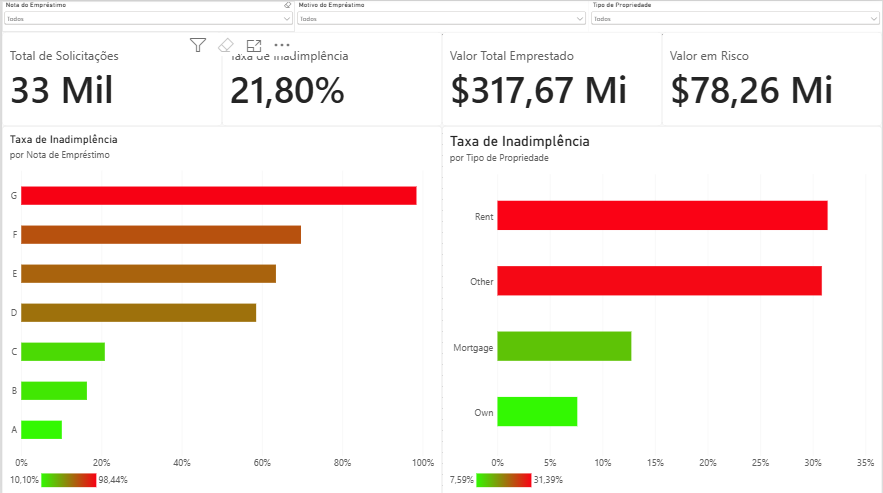

The dashboard page shown, as its layout file describes it:
{"tool":"powerbi","page":{"name":"Visão Geral","canvas":[1920,1080],"ordinal":0},"visuals":[{"type":"cardVisual","fields":{"Data":["Medidas.Total de Solicitações"]},"box":[0,67.5,480,205],"z":0},{"type":"cardVisual","fields":{"Data":["Medidas.Taxa de Inadimplência"]},"box":[480,67.5,480,205],"z":1000},{"type":"cardVisual","fields":{"Data":["Medidas.Valor Total Emprestado"]},"box":[960,67.5,480,205],"z":2000},{"type":"cardVisual","fields":{"Data":["Medidas.Valor em Risco"]},"box":[1440,67.5,480,205],"z":3000},{"type":"slicer","fields":{"Values":["FatoEmprestimos.nota_emprestimo"]},"box":[0,0,640,67.1],"z":3001},{"type":"slicer","fields":{"Values":["FatoEmprestimos.motivo_emprestimo"]},"box":[638.8,0,640,67.1],"z":3002},{"type":"slicer","fields":{"Values":["FatoEmprestimos.propriedade_residencial_pessoa"]},"box":[1281.2,0,640,67.1],"z":3003},{"type":"barChart","fields":{"Category":["FatoEmprestimos.nota_emprestimo"],"Y":["Medidas.Taxa de Inadimplência"]},"box":[0,272.5,960,807.5],"z":3004},{"type":"barChart","fields":{"Category":["FatoEmprestimos.propriedade_residencial_pessoa"],"Y":["Medidas.Taxa de Inadimplência"]},"box":[960,272.5,960,807.5],"z":3005}]}

Visuals, with their boxes in screenshot pixels (x1, y1, x2, y2), scaled from the page's 1920x1080 canvas onto the 883x493 screenshot:
cardVisual - Medidas.Total de Solicitações: BBox(0, 31, 221, 124)
cardVisual - Medidas.Taxa de Inadimplência: BBox(221, 31, 442, 124)
cardVisual - Medidas.Valor Total Emprestado: BBox(442, 31, 662, 124)
cardVisual - Medidas.Valor em Risco: BBox(662, 31, 882, 124)
slicer - FatoEmprestimos.nota_emprestimo: BBox(0, 0, 294, 31)
slicer - FatoEmprestimos.motivo_emprestimo: BBox(294, 0, 588, 31)
slicer - FatoEmprestimos.propriedade_residencial_pessoa: BBox(589, 0, 882, 31)
barChart - FatoEmprestimos.nota_emprestimo x Medidas.Taxa de Inadimplência: BBox(0, 124, 442, 492)
barChart - FatoEmprestimos.propriedade_residencial_pessoa x Medidas.Taxa de Inadimplência: BBox(442, 124, 882, 492)
